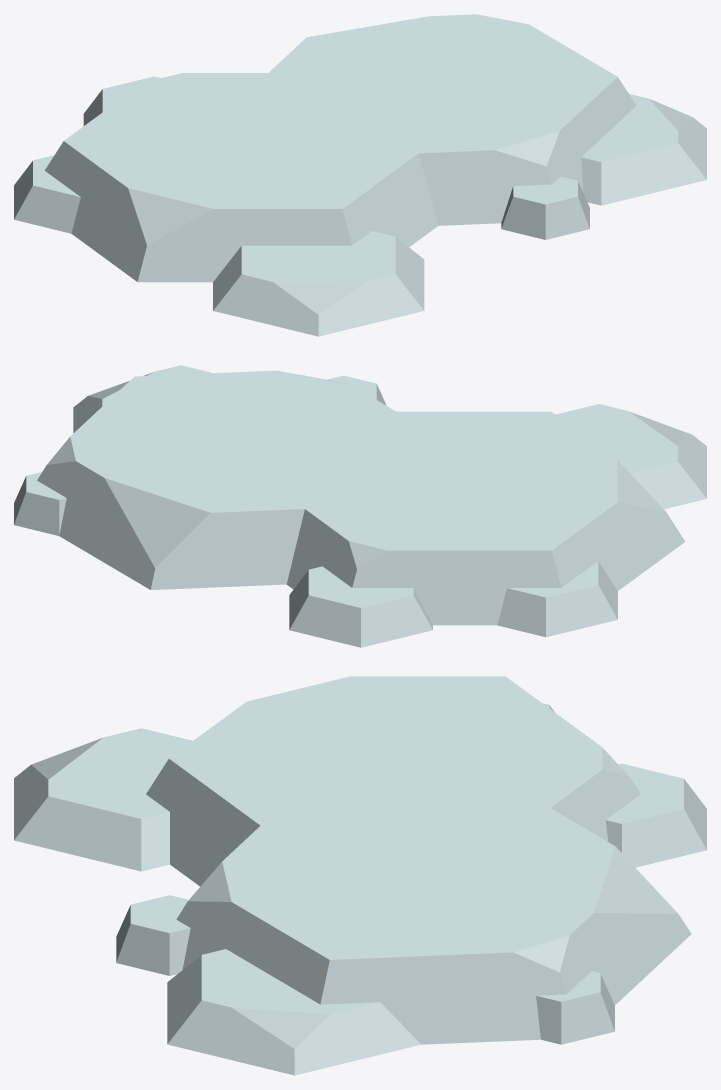
Rendered from platform_stone.glb.
The picture shows the model from 3 angles, top to bottom: view 1: azimuth 30°, elevation 25°; view 2: azimuth 150°, elevation 25°; view 3: azimuth 270°, elevation 25°; orthographic projection. The views are drawn at different scales.
Parts seen in each view (by area): view 1: platform_stone; view 2: platform_stone; view 3: platform_stone.
Part boxes in pixels (x1,y1,x2,y2): platform_stone: [14, 14, 706, 336]; platform_stone: [14, 365, 706, 647]; platform_stone: [14, 676, 706, 1075].
Size of the model in its own units: 0.8932 by 0.0825 by 0.7239.
Materials: 1 (1 with a texture image).
